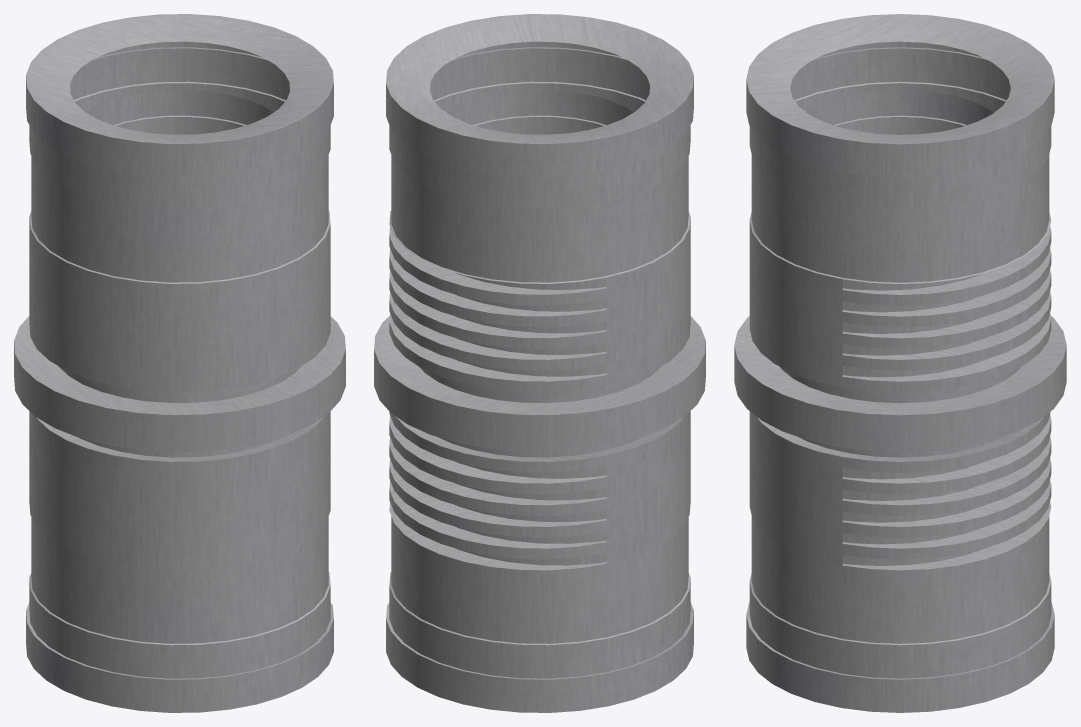
File: pipe-00-001.glb
3 renders of one model, left to right at view 1: azimuth 30°, elevation 25°; view 2: azimuth 150°, elevation 25°; view 3: azimuth 270°, elevation 25°, orthographic.
Visible parts, largest first — view 1: PIPE_00.001; view 2: PIPE_00.001; view 3: PIPE_00.001.
Boxes of the visible parts, x1,y1,x2,y2 form: PIPE_00.001: (14,14,345,712); PIPE_00.001: (374,14,705,712); PIPE_00.001: (734,14,1066,712).
Bounding box in the file's own units: 0.9286 × 1.75 × 0.9286.
1 material, 1 textured.
